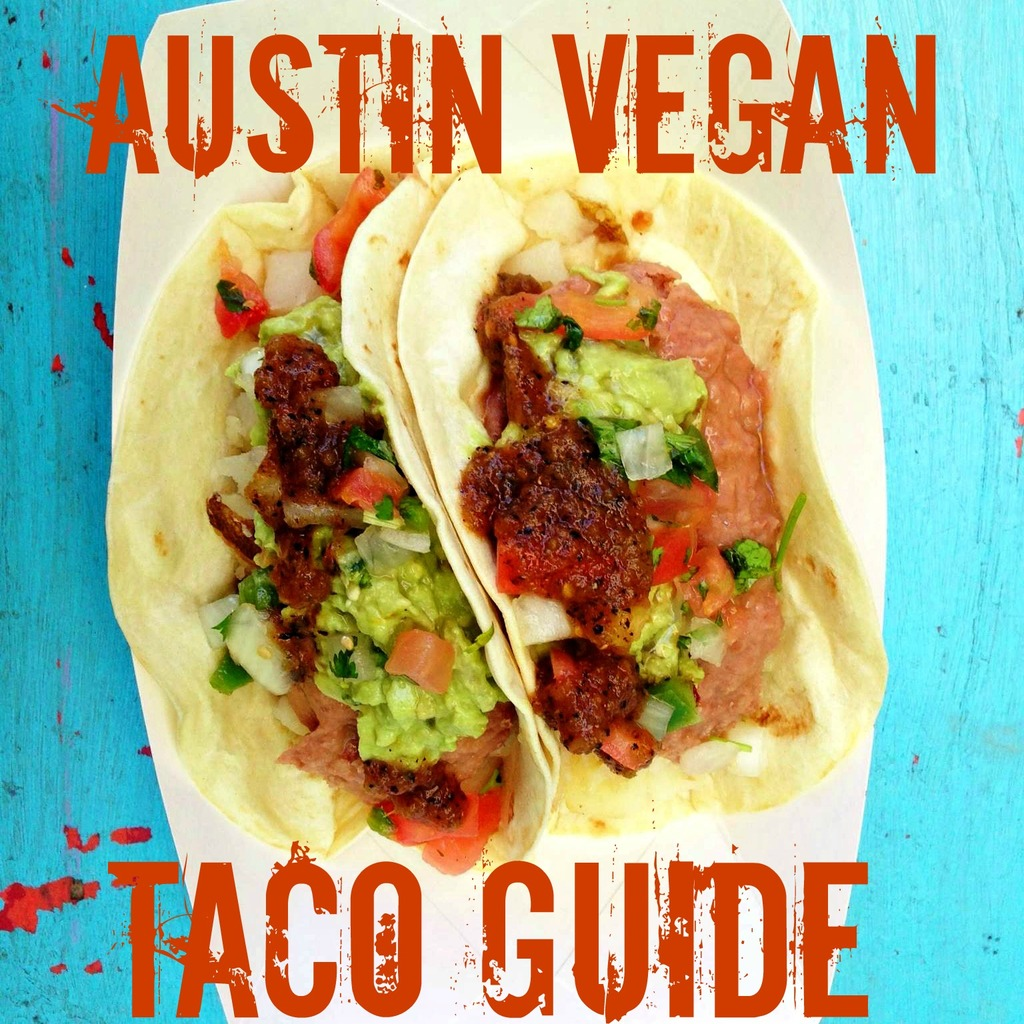hot_dog: (193, 176, 775, 904)
